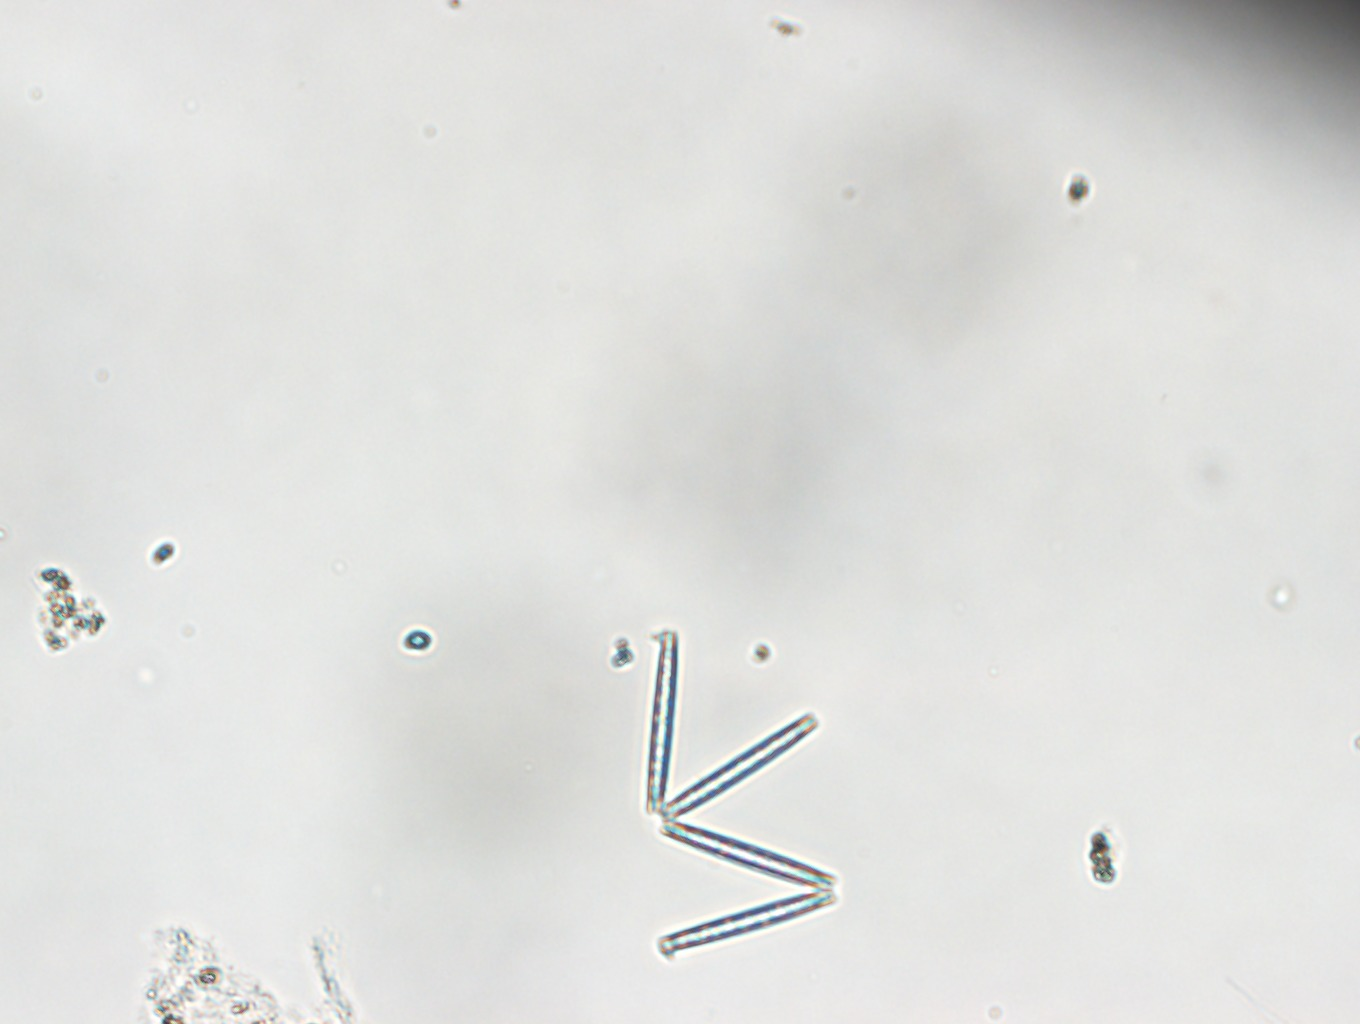thalassionema nitzschioides: (643, 630, 838, 956)
